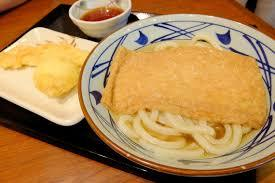kitune: (97, 29, 275, 171)
